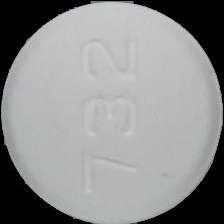35356-678: (0, 0, 224, 224)
